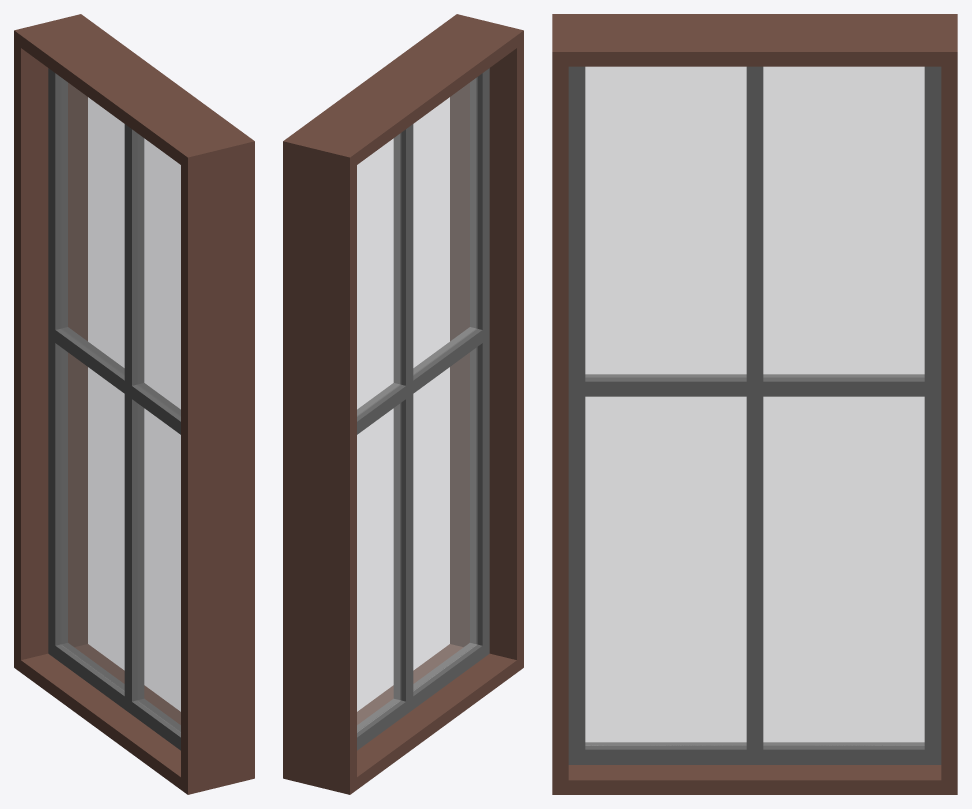
The model's file is Window06.fbx.
3 views of the same model, side by side, from view 1: azimuth 30°, elevation 25°; view 2: azimuth 150°, elevation 25°; view 3: azimuth 270°, elevation 25° (orthographic). The views are drawn at different scales.
Visible parts, largest first — view 1: Wall06Window02; view 2: Wall06Window02; view 3: Wall06Window02.
Boxes of the visible parts, x1,y1,x2,y2 form: Wall06Window02: (14, 14, 254, 794); Wall06Window02: (283, 14, 523, 794); Wall06Window02: (552, 14, 957, 794).
Bounding box in the file's own units: 0.2672 × 1.2 × 2.43.
